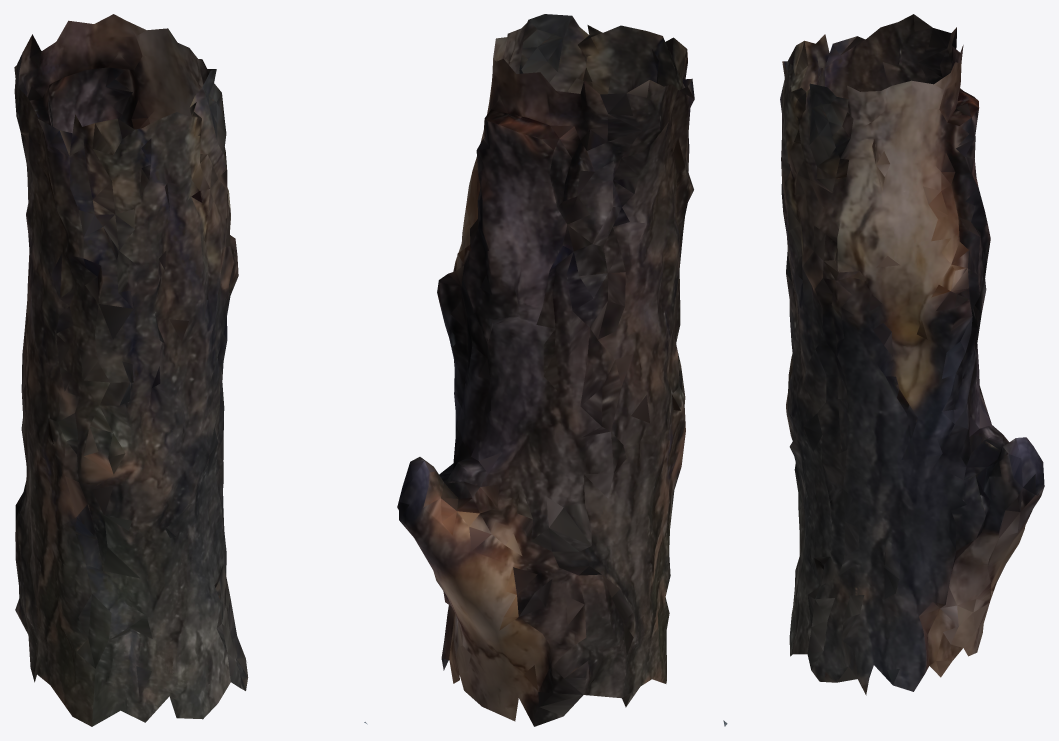
Rendered from tronco.fbx.
3 renders of one model, left to right at view 1: azimuth 30°, elevation 25°; view 2: azimuth 150°, elevation 25°; view 3: azimuth 270°, elevation 25°, orthographic. The views are drawn at different scales.
Parts seen in each view (by area): view 1: model; view 2: model; view 3: model.
Boxes of the visible parts, x1,y1,x2,y2 form: model: [14, 14, 367, 726]; model: [397, 14, 694, 726]; model: [723, 14, 1044, 726].
Size of the model in its own units: 10.86 by 26.08 by 12.54.
